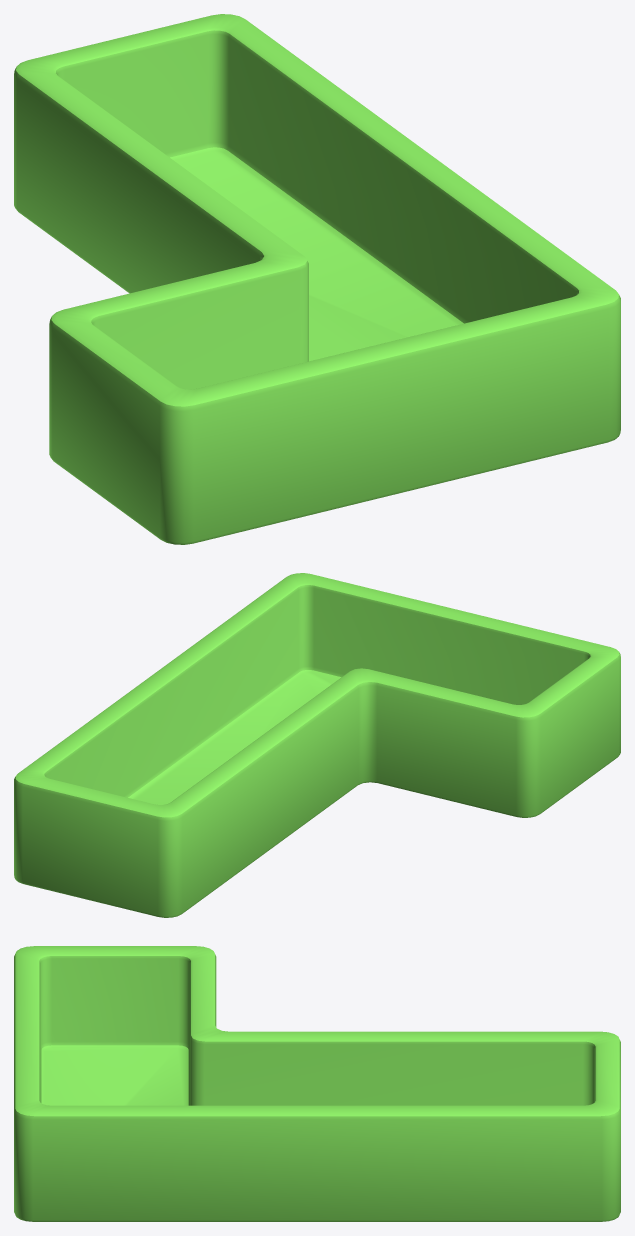
The picture shows the model from 3 angles, top to bottom: view 1: azimuth 30°, elevation 25°; view 2: azimuth 150°, elevation 25°; view 3: azimuth 270°, elevation 25°; orthographic projection. The views are drawn at different scales.
Parts seen in each view (by area): view 1: Shape_J4; view 2: Shape_J4; view 3: Shape_J4.
Part boxes in pixels (x1,y1,x2,y2): Shape_J4: (14,14,620,544); Shape_J4: (14,573,620,917); Shape_J4: (14,946,620,1221).
Bounding box in the file's own units: 1.7 × 0.5 × 2.55.
